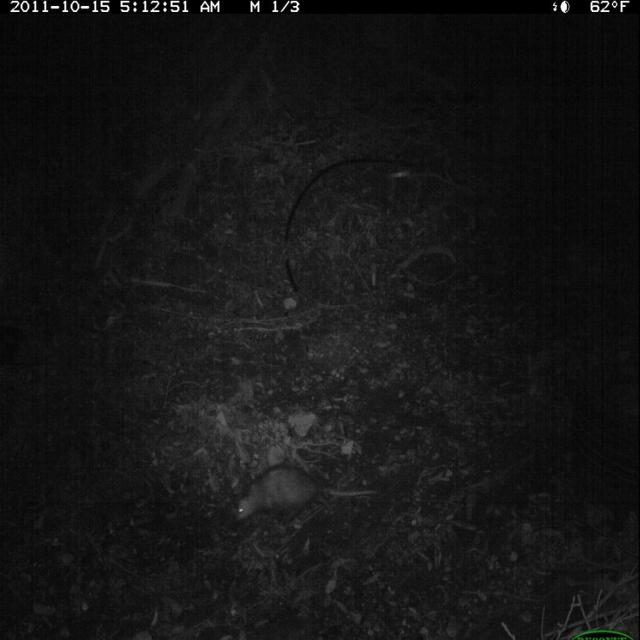opossum: (234, 461, 380, 528)
